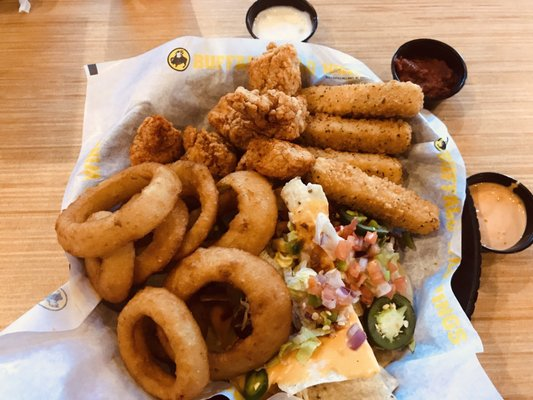pizza: (245, 0, 319, 44)
salad: (466, 172, 533, 254)
